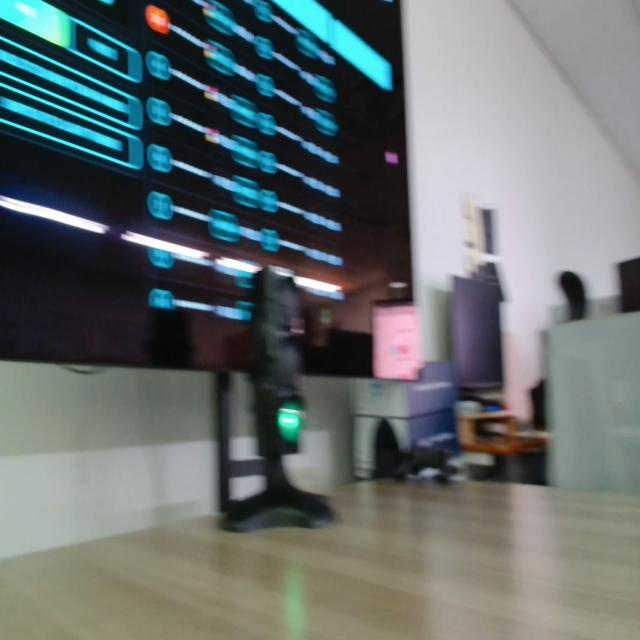green_light: (278, 403, 303, 443)
